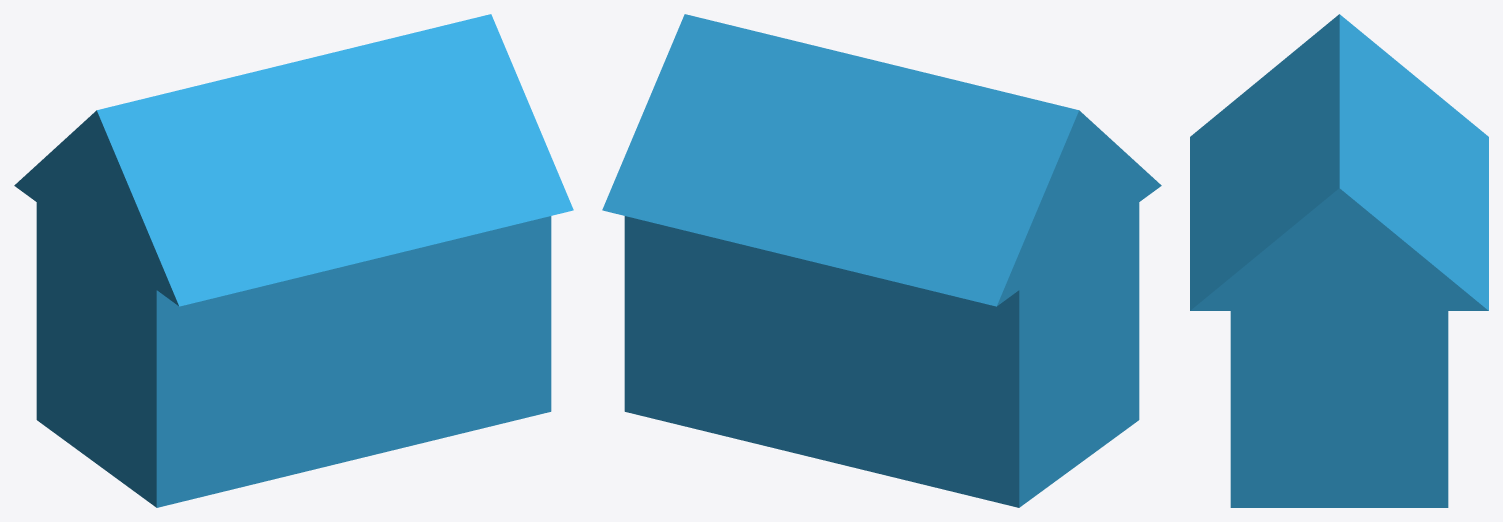
The model's file is SiedlungBlue.glb.
3 views of the same model, side by side, from view 1: azimuth 30°, elevation 25°; view 2: azimuth 150°, elevation 25°; view 3: azimuth 270°, elevation 25° (orthographic). The views are drawn at different scales.
Parts seen in each view (by area): view 1: Cube; view 2: Cube; view 3: Cube.
Boxes of the visible parts, x1=… form: Cube: x1=14, y1=14, x2=573, y2=507; Cube: x1=602, y1=14, x2=1161, y2=507; Cube: x1=1190, y1=14, x2=1488, y2=507.
Size of the model in its own units: 0.6906 by 0.5917 by 0.5011.
